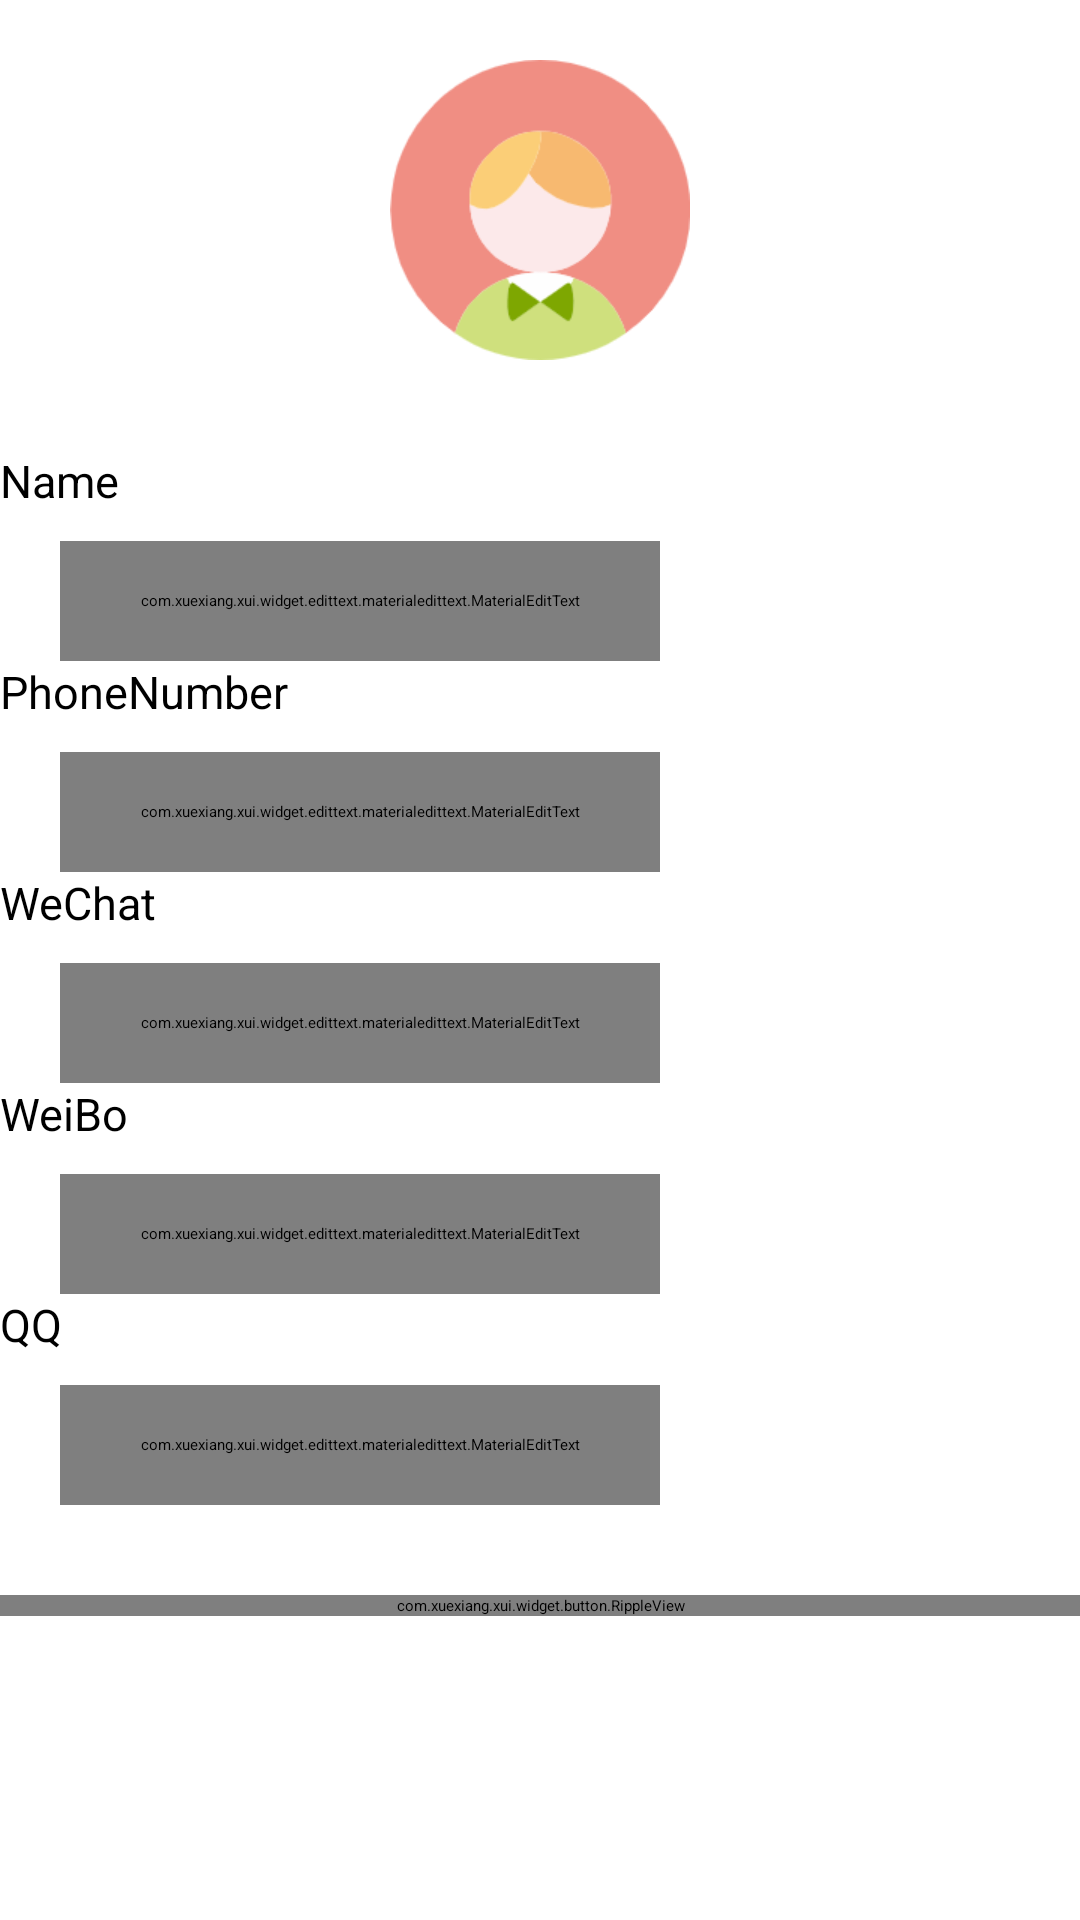

Where icons sit on this 1080x1920 app screen, as (x1, y1, x2, y2):
user photo: (390, 60, 690, 360)
